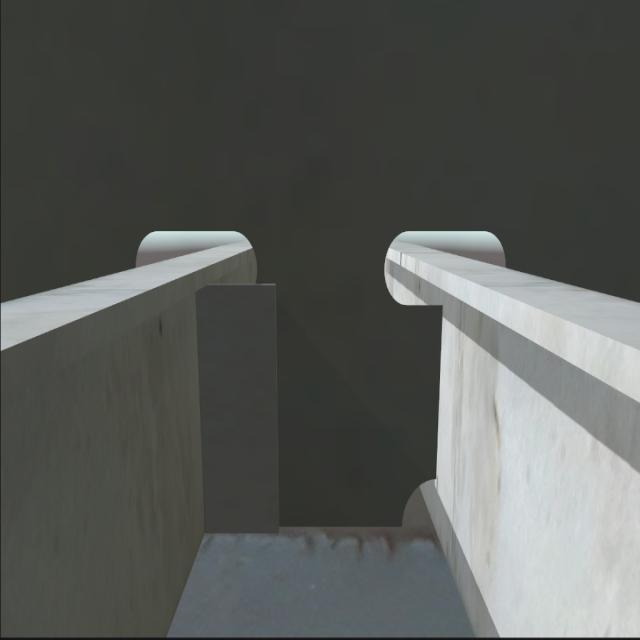fillet_hole: (399, 486, 439, 526)
fillet_yong_jeop_jang: (200, 516, 410, 540)
longi_yong_jeop_jang: (190, 280, 211, 547), (433, 302, 447, 478)
plate_CP01: (196, 286, 280, 534)
